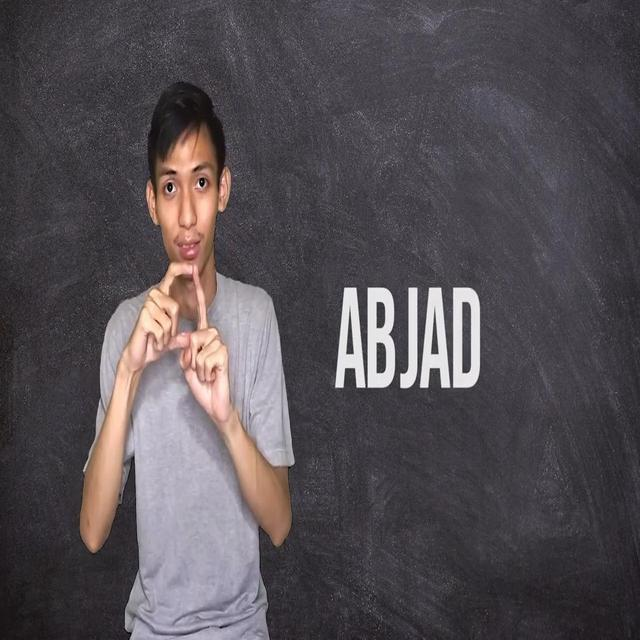D: (140, 261, 225, 372)
